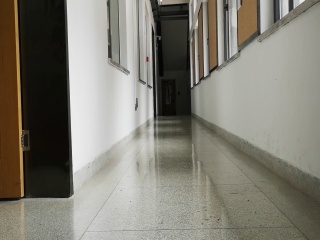room: (2, 2, 75, 201)
